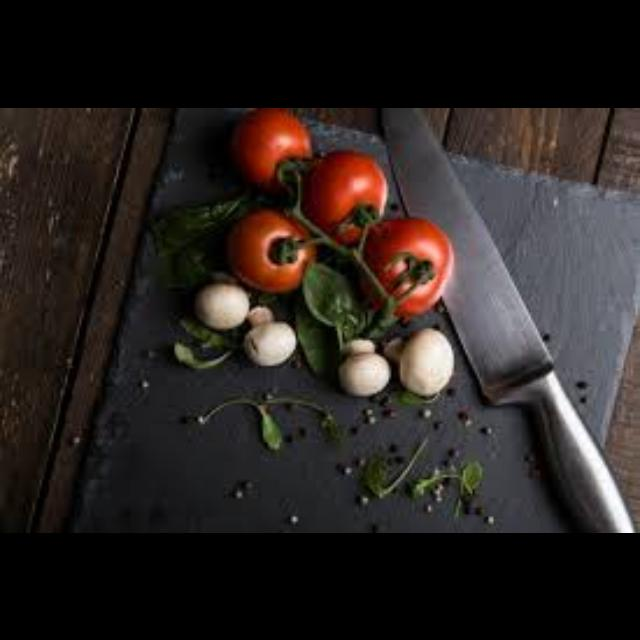knife: (379, 108, 635, 530)
